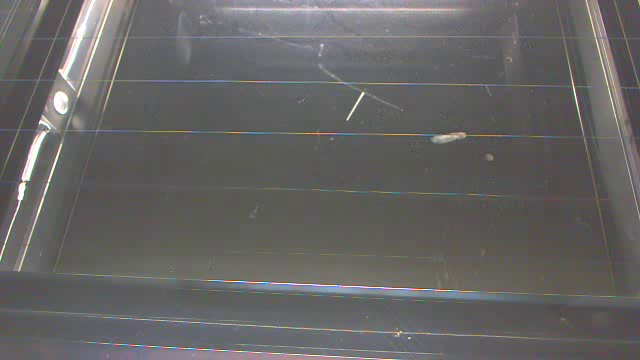Alfa: (431, 127, 471, 146)
